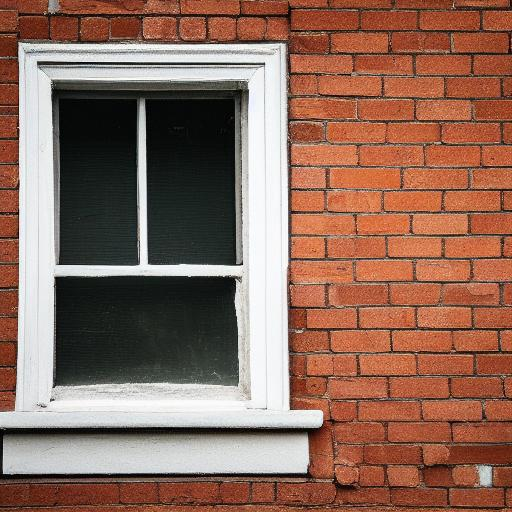Window: (1, 41, 329, 479)
